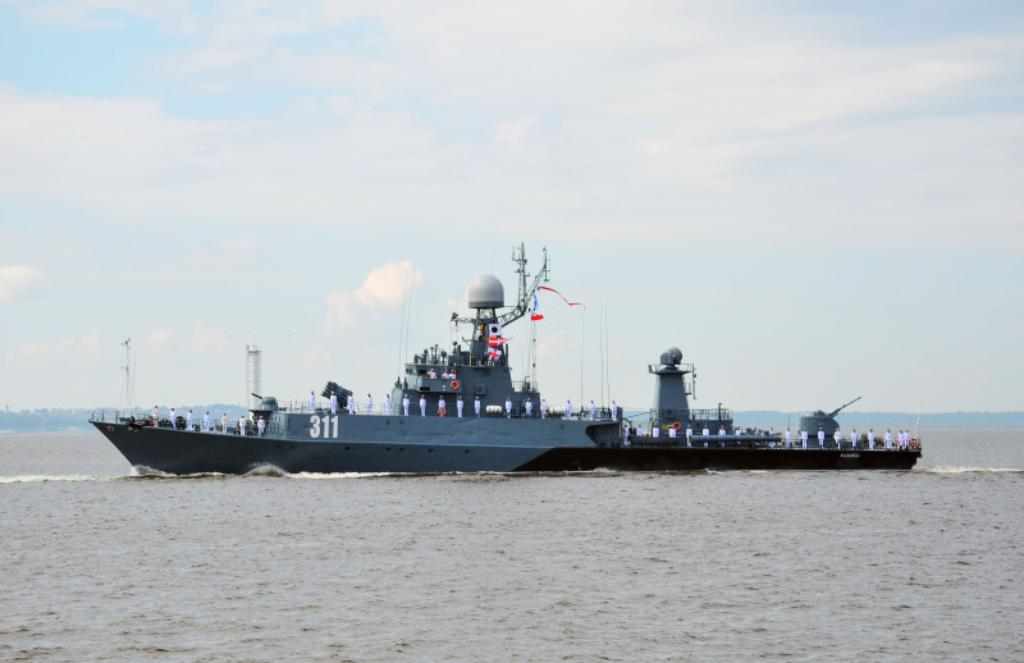Warship: (86, 232, 928, 476)
